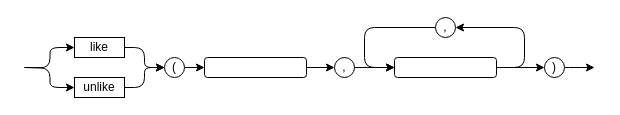
This 620x115 diagram has some shape labels left out. Here are the shapes that lost their labels. From the top down, the centre of each, then its label:
At point (255, 67): "expression".
At point (445, 67): "pattern".
